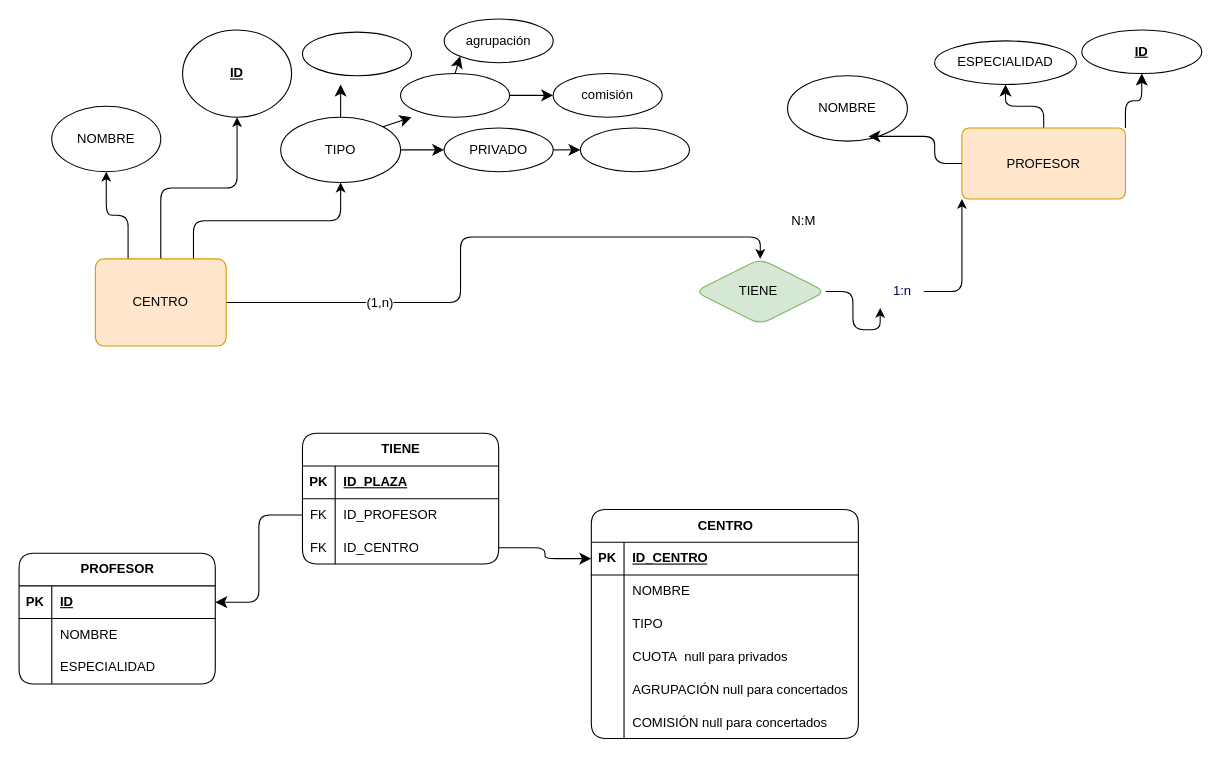
Some shapes in this 1221 by 758 pixel diagram are drawn without their labels. Each missing label, with the centre of its shape:
"CONCERTADO" goes at (454,94).
"cuota" goes at (634,149).
"PÚBLICO" goes at (356,53).
